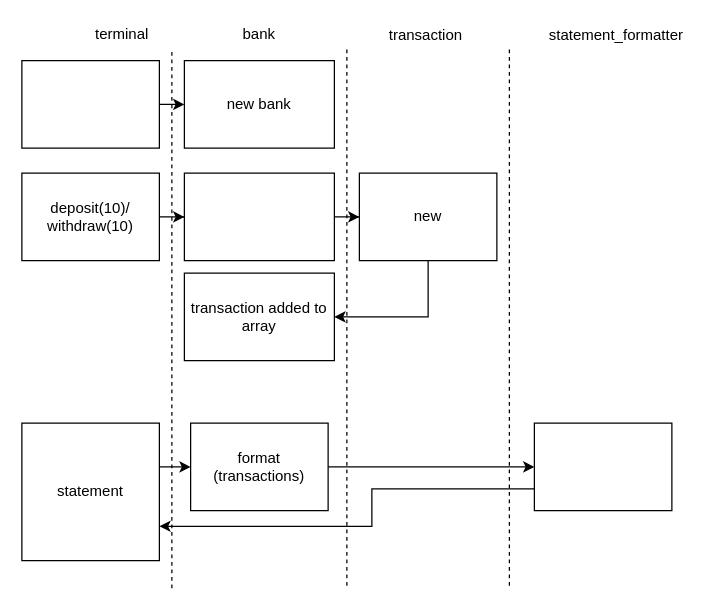
The diagram is 719 pixels wide and 611 high, and some of its shapes have lost their labels. Here are the shapes that lost their labels. From the top down, the centre of each, then its label:
At [90,103]: "require bank".
At [258,216]: "balance +=/-= 10 new transaction(type, 10, balance)".
At [602,466]: "new statement with each transaction formatted as string".
